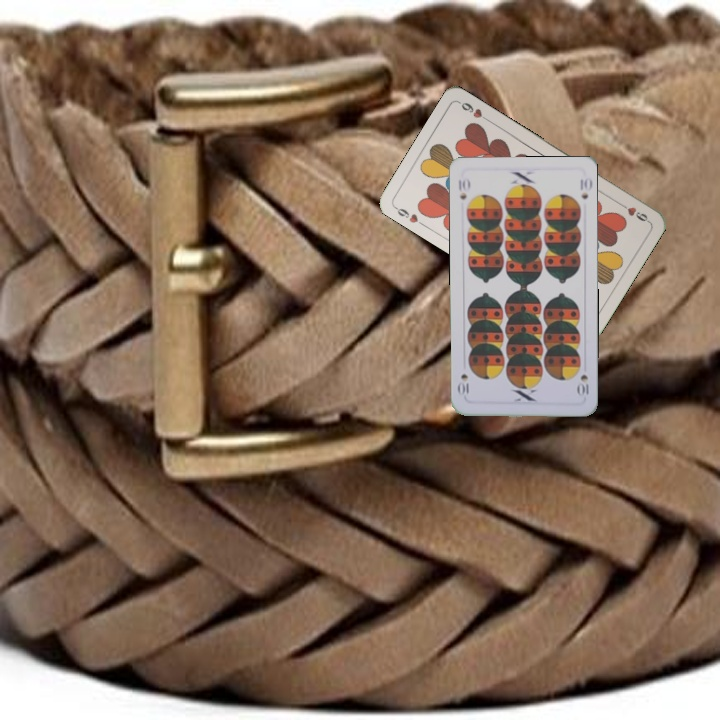H9: (615, 198, 651, 225), (391, 203, 427, 229)
S10: (574, 371, 591, 399), (455, 174, 472, 202)
